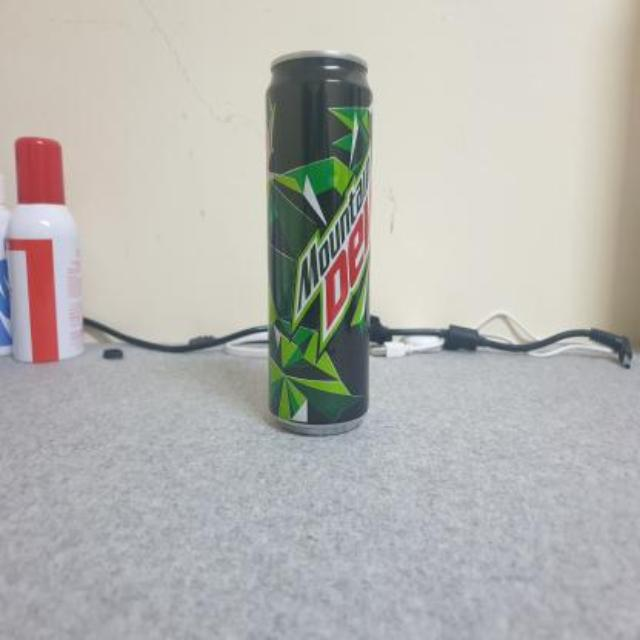metal: (265, 51, 368, 431)
